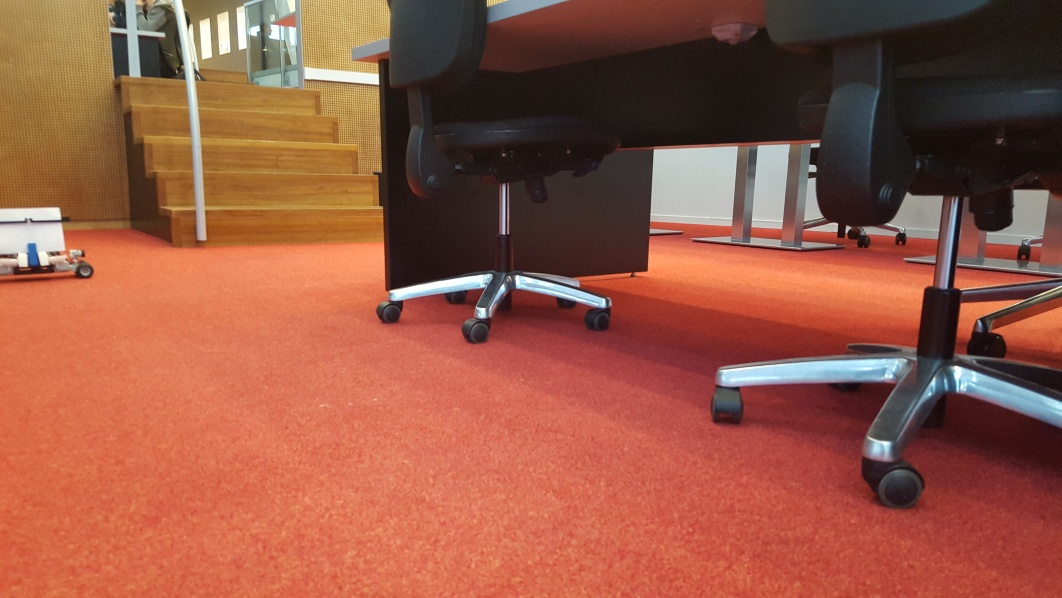car: (1, 206, 94, 286)
